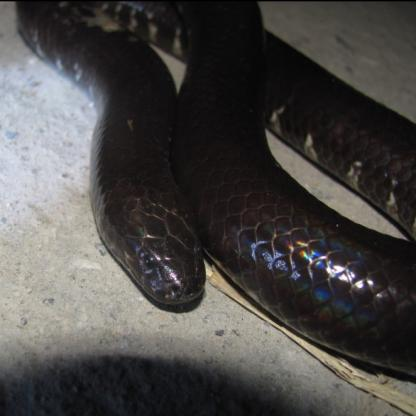snakes: (10, 0, 416, 373)
